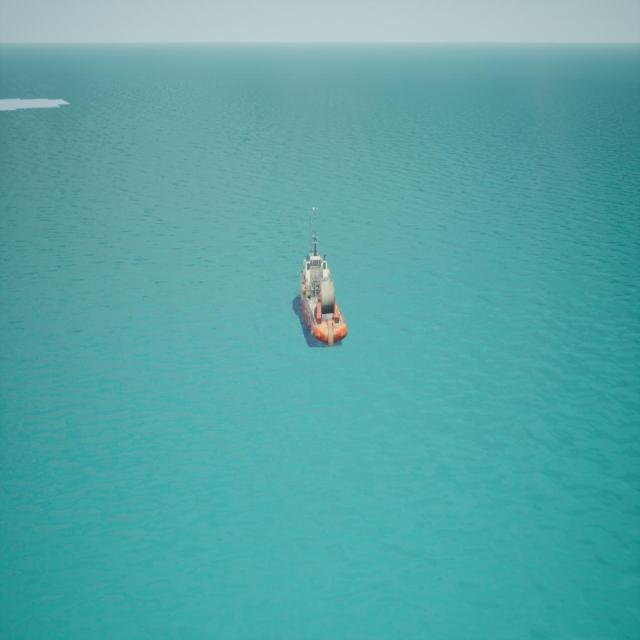tug boat: (297, 212, 346, 352)
